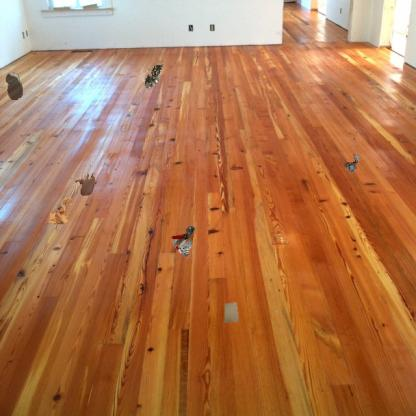dirty: (170, 224, 198, 260), (47, 197, 73, 224), (142, 62, 167, 90), (342, 152, 361, 174), (223, 302, 239, 323)
liquid: (73, 172, 97, 197), (6, 72, 23, 100)
